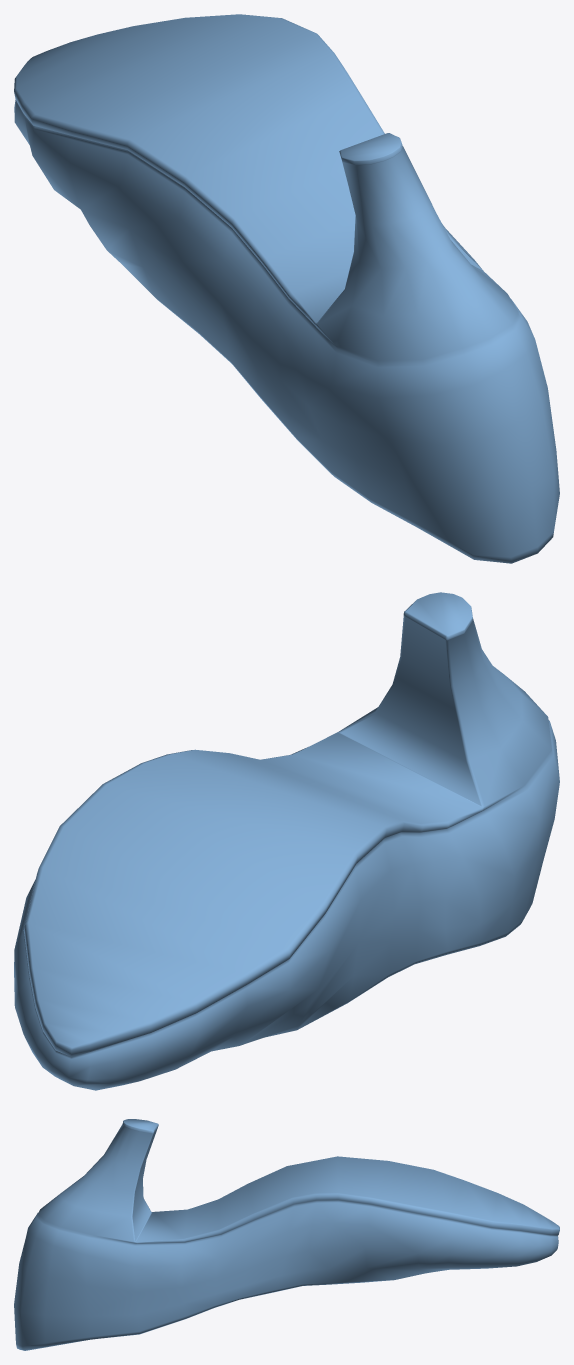
The model's file is shoe1_4.dae.
3 renders of one model, top to bottom at view 1: azimuth 30°, elevation 25°; view 2: azimuth 150°, elevation 25°; view 3: azimuth 270°, elevation 25°, orthographic. The views are drawn at different scales.
Parts seen in each view (by area): view 1: shoe1_019; view 2: shoe1_019; view 3: shoe1_019.
Part boxes in pixels (box(x1,y1,x2,y2)): shoe1_019: box(14, 14, 559, 563); shoe1_019: box(14, 592, 559, 1090); shoe1_019: box(14, 1119, 559, 1350).
Size of the model in its own units: 0.1138 by 0.3576 by 0.1548.
